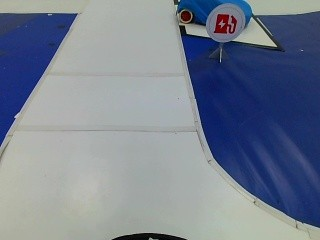battery: (205, 5, 242, 42)
car: (172, 1, 254, 27)
